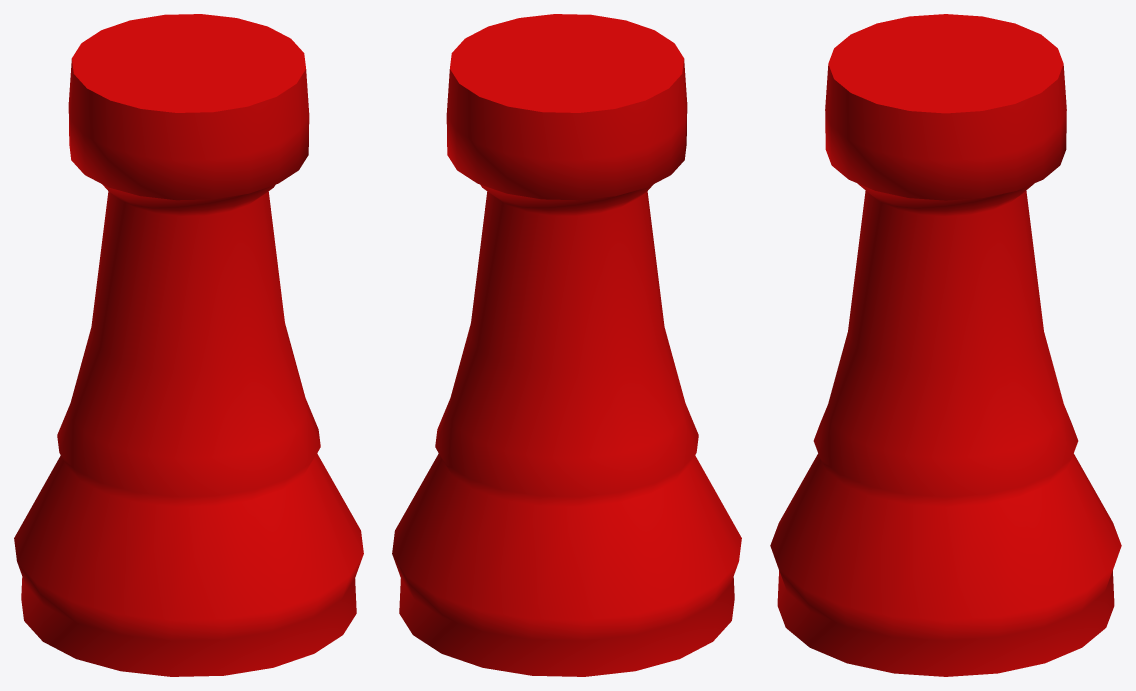
File: SM_Rook.fbx
The picture shows the model from 3 angles, left to right: view 1: azimuth 30°, elevation 25°; view 2: azimuth 150°, elevation 25°; view 3: azimuth 270°, elevation 25°; orthographic projection.
Parts seen in each view (by area): view 1: SM_Rook; view 2: SM_Rook; view 3: SM_Rook.
Boxes of the visible parts, x1=… form: SM_Rook: x1=14, y1=14, x2=363, y2=676; SM_Rook: x1=392, y1=14, x2=741, y2=676; SM_Rook: x1=770, y1=14, x2=1121, y2=676.
Size of the model in its own units: 1.28 by 2.18 by 1.28.
